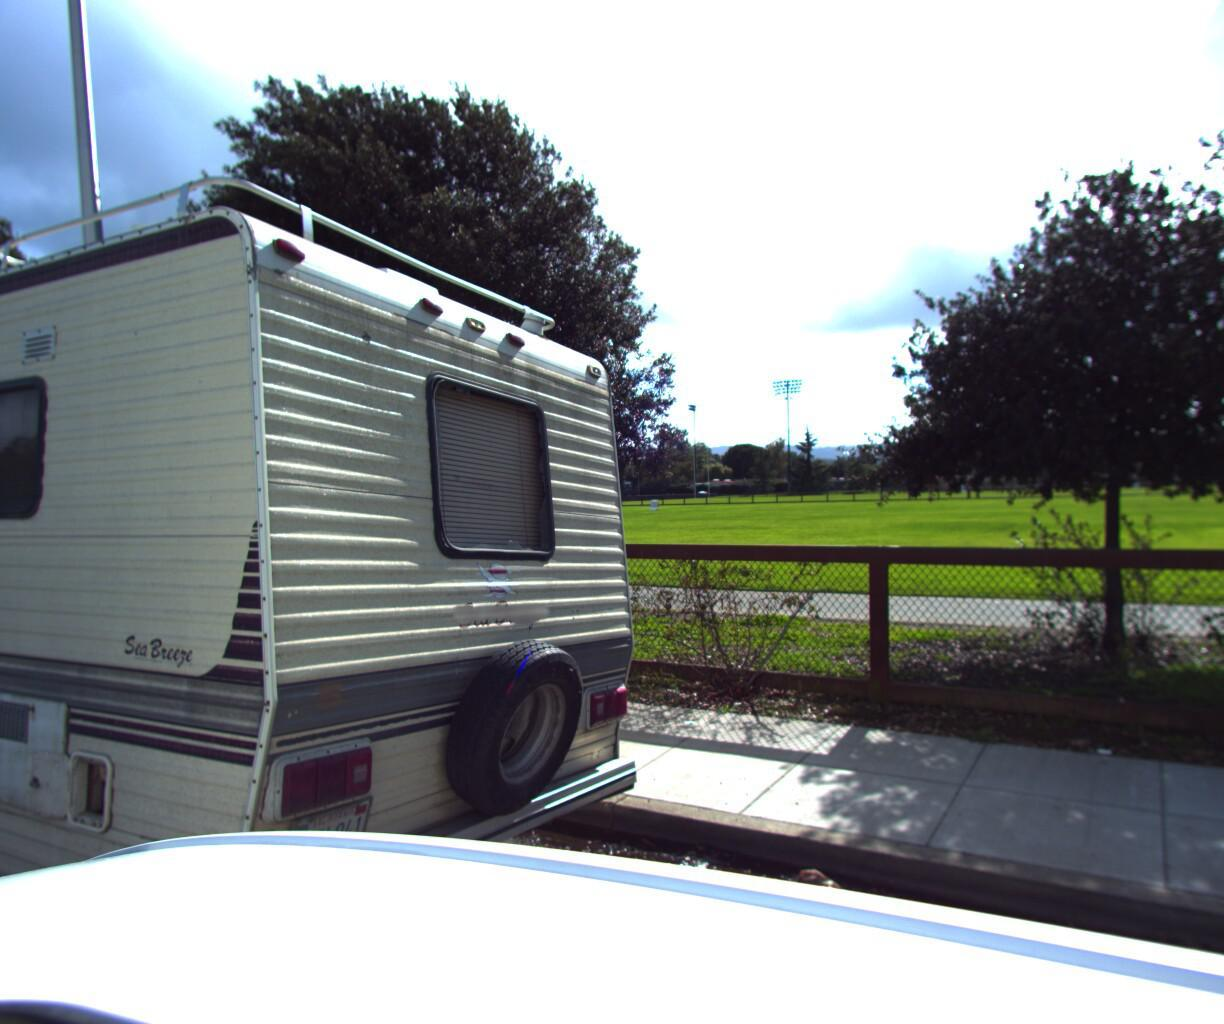other_vehicle: (0, 0, 720, 1024)
